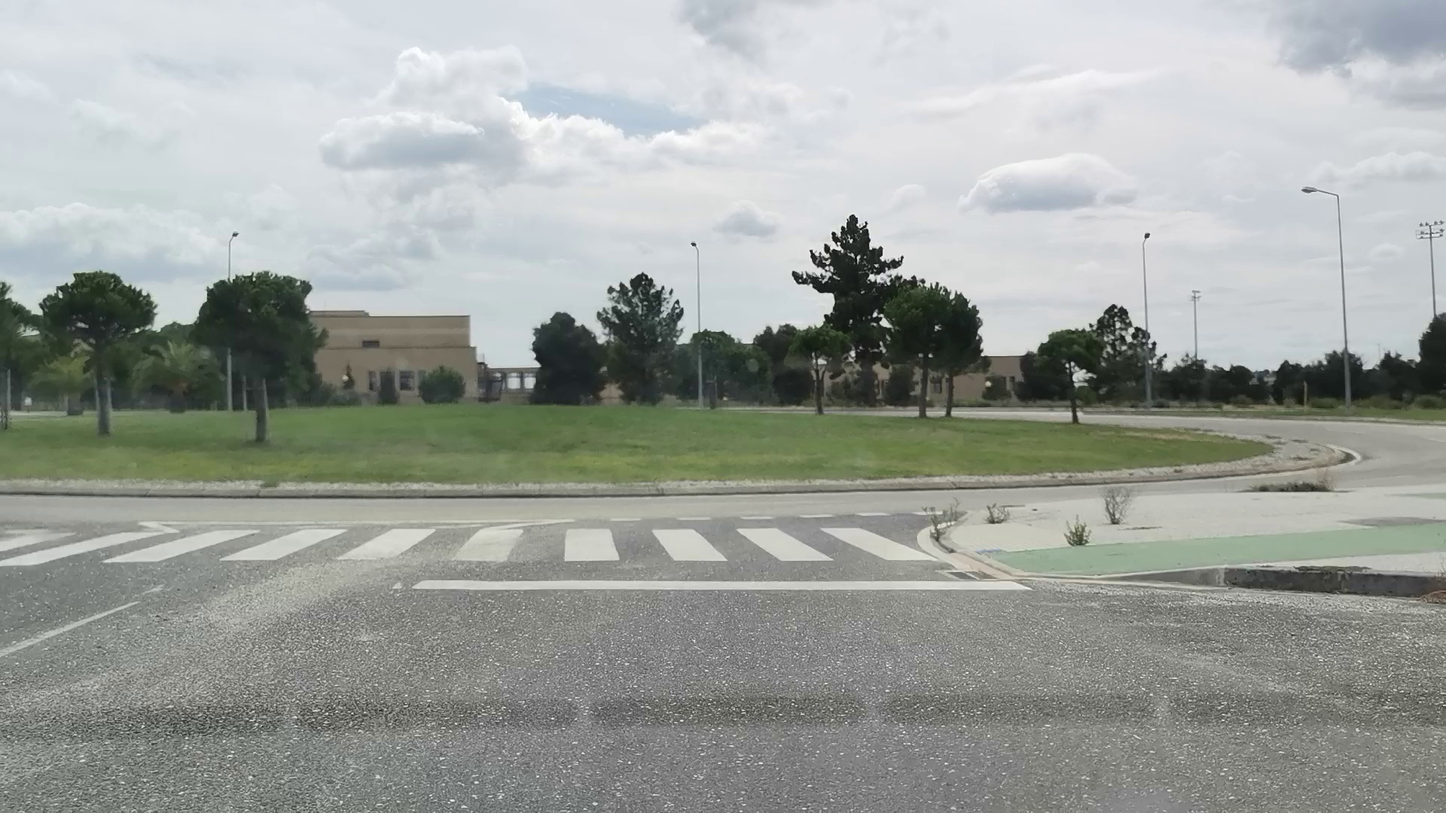Stairs: (0, 527, 940, 568)
